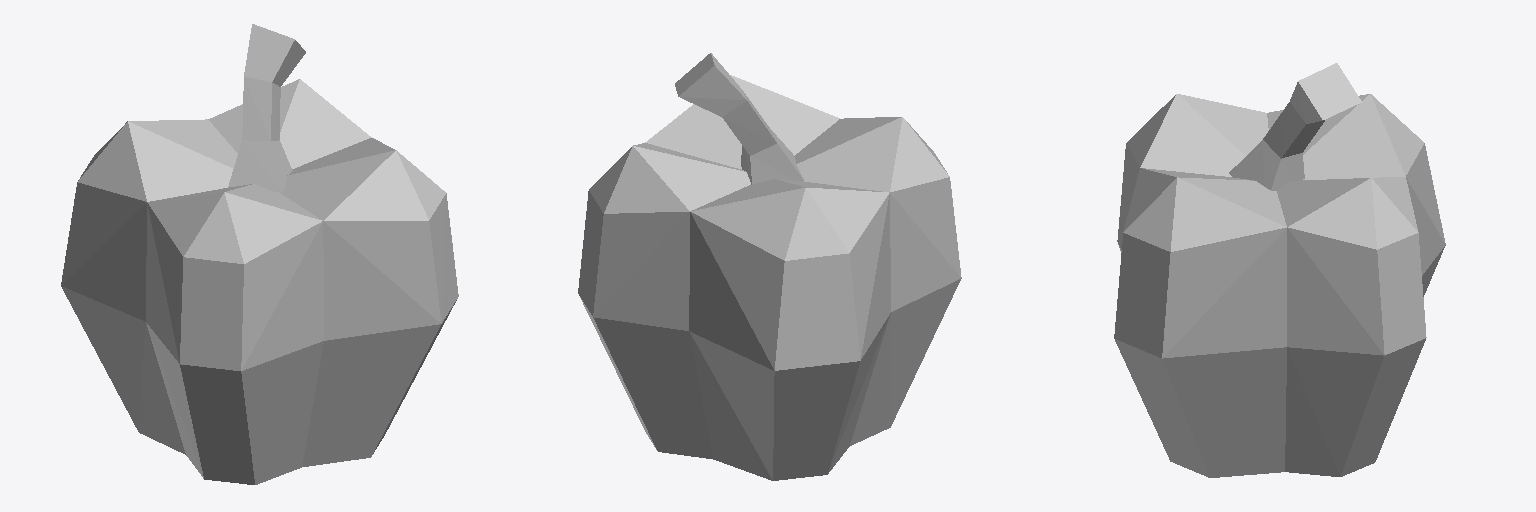
Rendered from SweetPepper.OBJ.
The picture shows the model from 3 angles: view 1: azimuth 30°, elevation 25°; view 2: azimuth 150°, elevation 25°; view 3: azimuth 270°, elevation 25°; orthographic projection.
Size of the model in its own units: 0.1129 by 0.1541 by 0.1128.